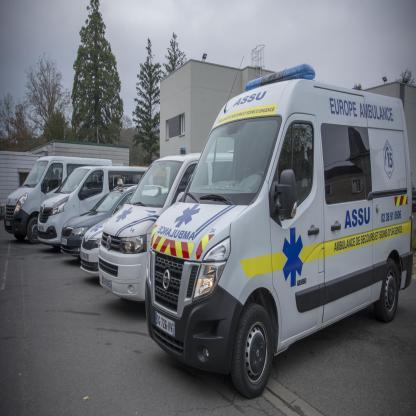ambulance_off: (144, 63, 416, 398)
